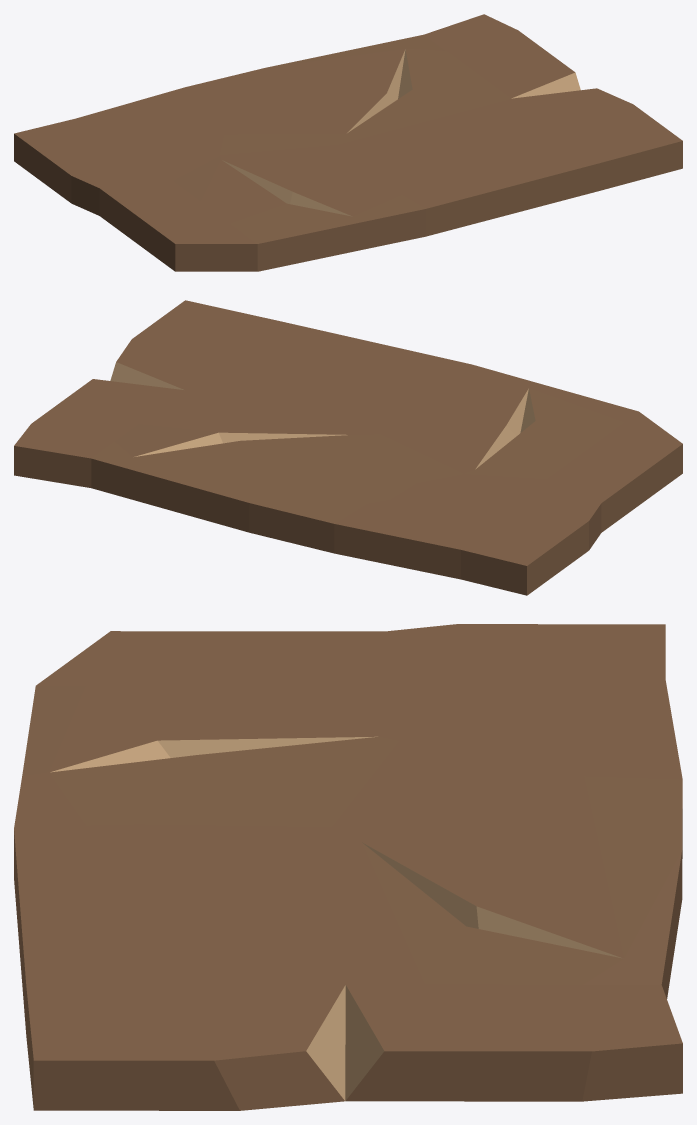
The model's file is SM_Cutting_Board.gltf.
3 renders of one model, top to bottom at view 1: azimuth 30°, elevation 25°; view 2: azimuth 150°, elevation 25°; view 3: azimuth 270°, elevation 25°, orthographic. The views are drawn at different scales.
Parts seen in each view (by area): view 1: SM_Cutting_Board; view 2: SM_Cutting_Board; view 3: SM_Cutting_Board.
Part boxes in pixels (x1,y1,x2,y2): SM_Cutting_Board: (14, 14, 682, 271); SM_Cutting_Board: (14, 300, 682, 595); SM_Cutting_Board: (14, 624, 682, 1110).
Bounding box in the file's own units: 0.5392 × 0.0295 × 0.3491.
1 material, 1 textured.
